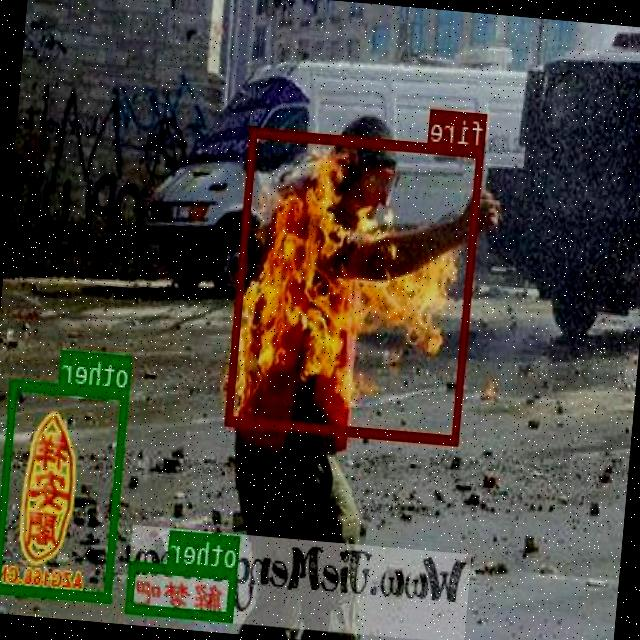fire: (226, 127, 484, 443)
